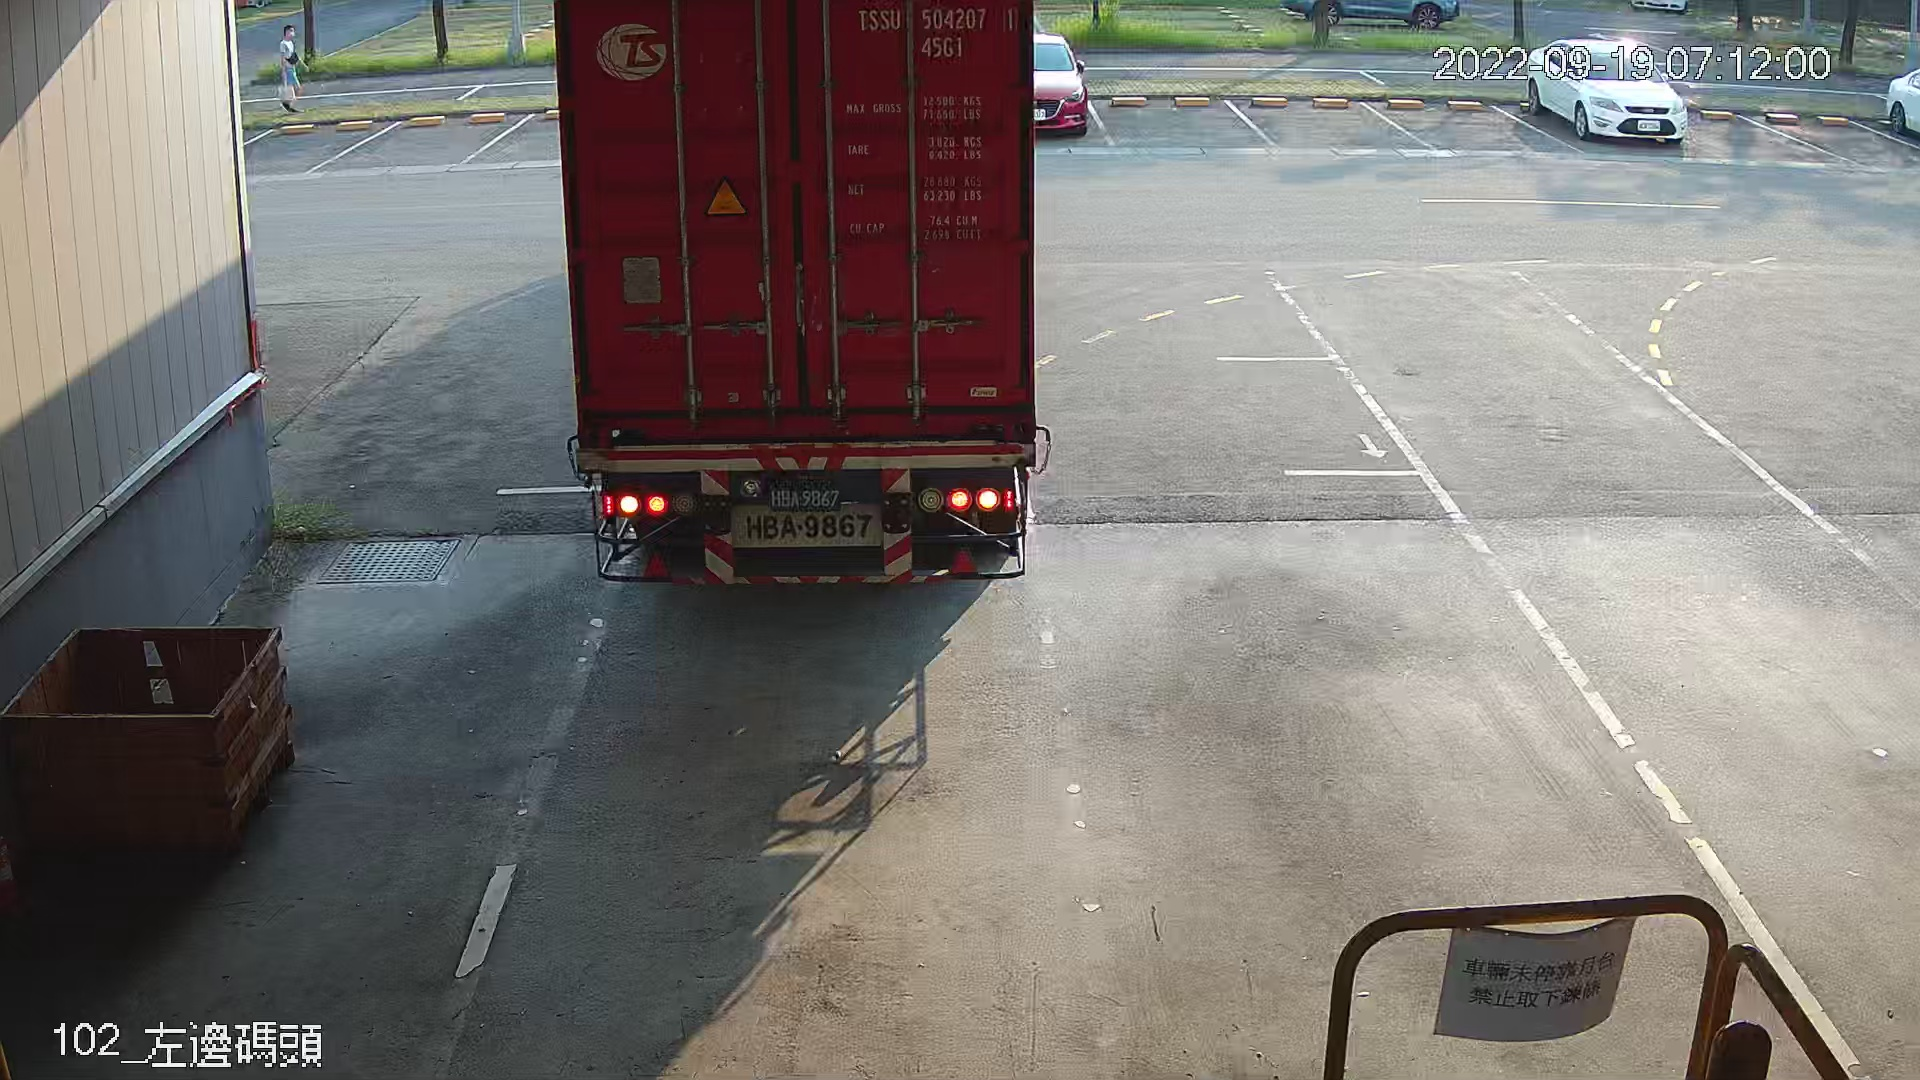container: (851, 3, 1023, 63)
